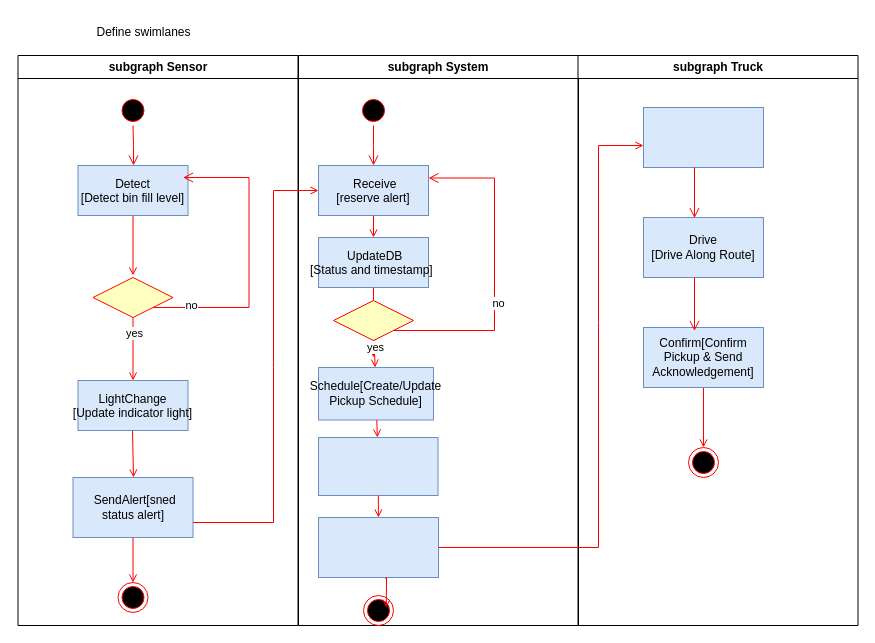
Image size: 875x643. Some labels were removed from this diagram. The shapes that lost their labels are listed below. From the top down, each one's centre as x and y in pixels, then its label:
At [703,137]: "CheckSched [Check Pickup Schedule]".
At [132,297]: "StatusCheck {Bin full?}".
At [373,320]: "Decision {Threshold Reached?}".
At [378,466]: "RouteOpt[Optimize Pickup Route]".
At [378,547]: "NotifyTruck[Notify Waste Truck]".
